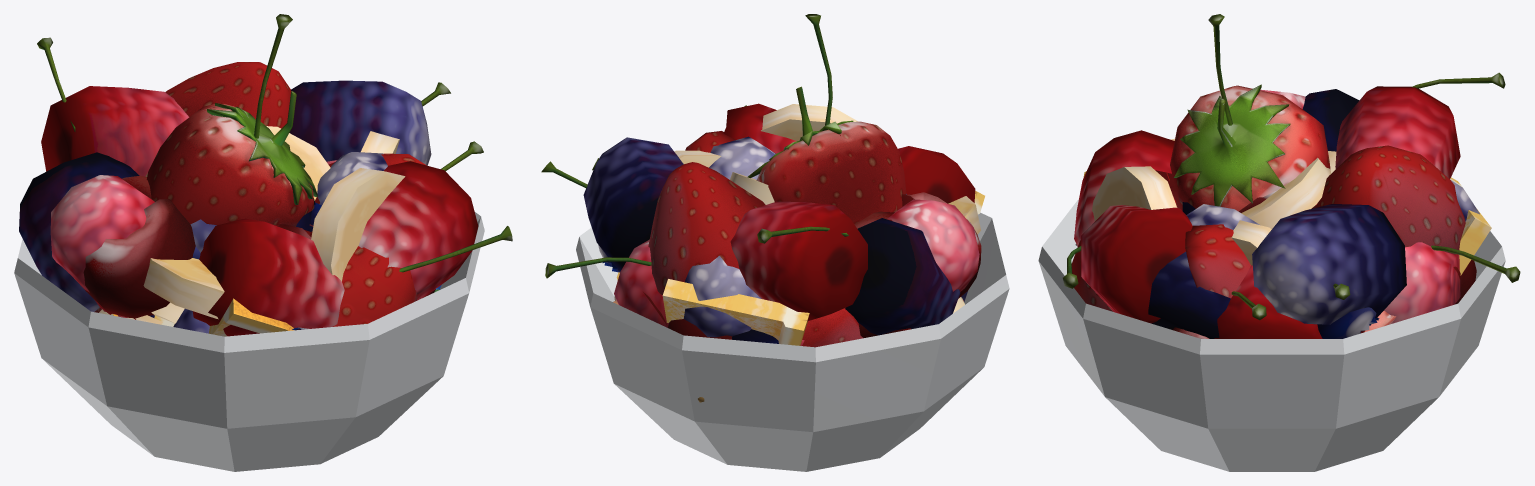
Rendered from bowls.fbx.
3 views of the same model, side by side, from view 1: azimuth 30°, elevation 25°; view 2: azimuth 150°, elevation 25°; view 3: azimuth 270°, elevation 25° (orthographic). The views are drawn at different scales.
Visible parts, largest first — view 1: bowl, rasberry_bowl, full_strwaberry_bowl, blackberry_bowl, banana_bowl, half_cherry_bowl, full_cherry_bowl, part_lemon_bowl; view 2: bowl, rasberry_bowl, blackberry_bowl, full_strwaberry_bowl, part_lemon_bowl, banana_bowl, full_cherry_bowl, half_strwaberry_bowl, half_cherry_bowl, blueberry_bowl; view 3: bowl, rasberry_bowl, full_strwaberry_bowl, blackberry_bowl, banana_bowl, half_strwaberry_bowl, full_cherry_bowl, blueberry_bowl, part_lemon_bowl, half_cherry_bowl.
Boxes of the visible parts, bbox=[...] form: bowl: bbox=[14, 212, 484, 471]; rasberry_bowl: bbox=[41, 86, 478, 336]; full_strwaberry_bowl: bbox=[146, 62, 417, 326]; blackberry_bowl: bbox=[19, 80, 431, 333]; banana_bowl: bbox=[99, 126, 405, 324]; half_cherry_bowl: bbox=[83, 199, 435, 318]; full_cherry_bowl: bbox=[37, 14, 512, 272]; part_lemon_bowl: bbox=[112, 298, 294, 336]; bowl: bbox=[576, 212, 1009, 471]; rasberry_bowl: bbox=[614, 103, 979, 345]; blackberry_bowl: bbox=[583, 136, 967, 337]; full_strwaberry_bowl: bbox=[648, 86, 906, 294]; part_lemon_bowl: bbox=[616, 191, 984, 345]; banana_bowl: bbox=[674, 104, 980, 313]; full_cherry_bowl: bbox=[541, 14, 894, 278]; half_strwaberry_bowl: bbox=[643, 131, 863, 347]; half_cherry_bowl: bbox=[668, 192, 981, 339]; blueberry_bowl: bbox=[598, 245, 778, 343]; bowl: bbox=[1038, 199, 1505, 471]; rasberry_bowl: bbox=[1074, 86, 1460, 338]; full_strwaberry_bowl: bbox=[1071, 84, 1465, 311]; blackberry_bowl: bbox=[1148, 89, 1479, 338]; banana_bowl: bbox=[1092, 138, 1336, 265]; half_strwaberry_bowl: bbox=[1096, 224, 1460, 331]; full_cherry_bowl: bbox=[1063, 14, 1520, 320]; blueberry_bowl: bbox=[1075, 244, 1379, 338]; part_lemon_bowl: bbox=[1083, 171, 1491, 275]; half_cherry_bowl: bbox=[1166, 172, 1476, 338].
Bounding box in the file's own units: 189 × 173 × 187.
